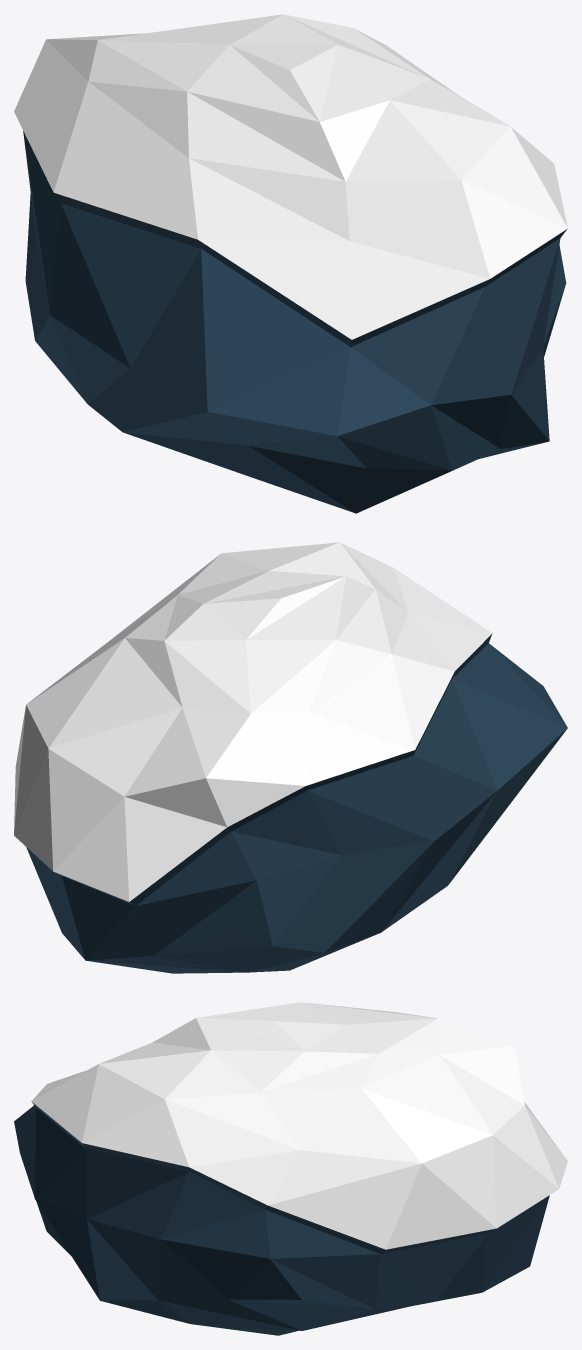
Rendered from Stein1.FBX.
3 views of the same model, one above another, from view 1: azimuth 30°, elevation 25°; view 2: azimuth 150°, elevation 25°; view 3: azimuth 270°, elevation 25° (orthographic). The views are drawn at different scales.
Visible parts, largest first — view 1: GeoSphere012; view 2: GeoSphere012; view 3: GeoSphere012.
Part boxes in pixels (left/top/right/bottom): GeoSphere012: left=14, top=14, right=567, bottom=513; GeoSphere012: left=14, top=542, right=567, bottom=973; GeoSphere012: left=14, top=1002, right=567, bottom=1335.
Bounding box in the file's own units: 23.68 × 19.83 × 35.02.
